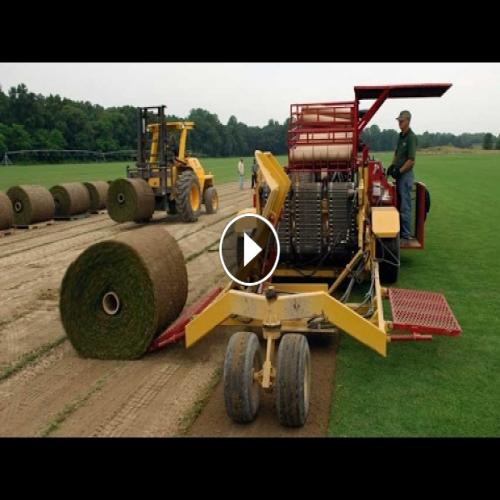con_eq: (182, 84, 462, 424), (115, 105, 221, 220)
